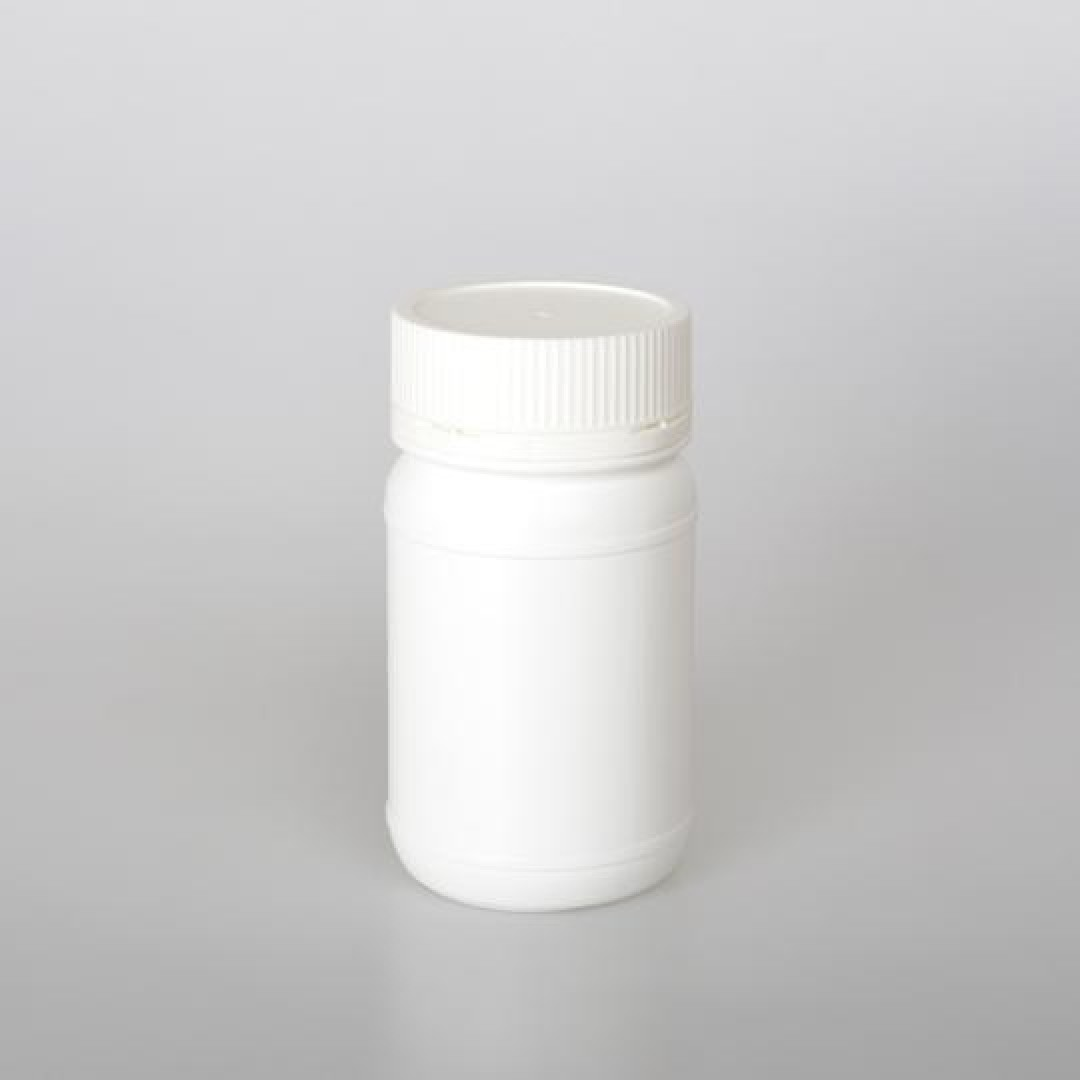medicinejar: (376, 282, 707, 919)
